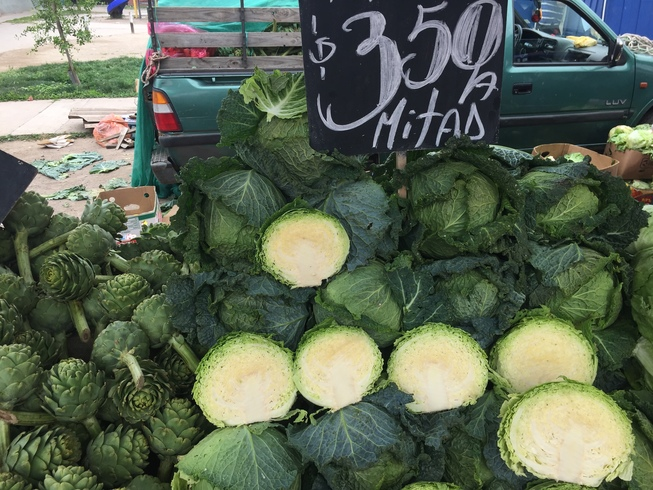precio: (294, 1, 514, 161)
